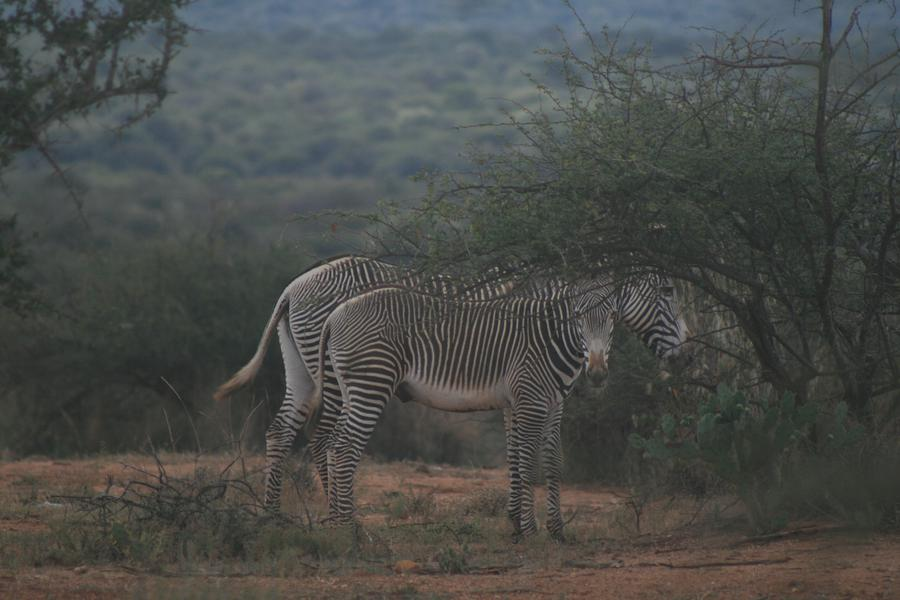zebra_grevys: (322, 281, 559, 398)
